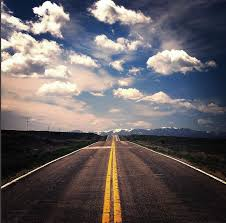car: (1, 133, 209, 221)
